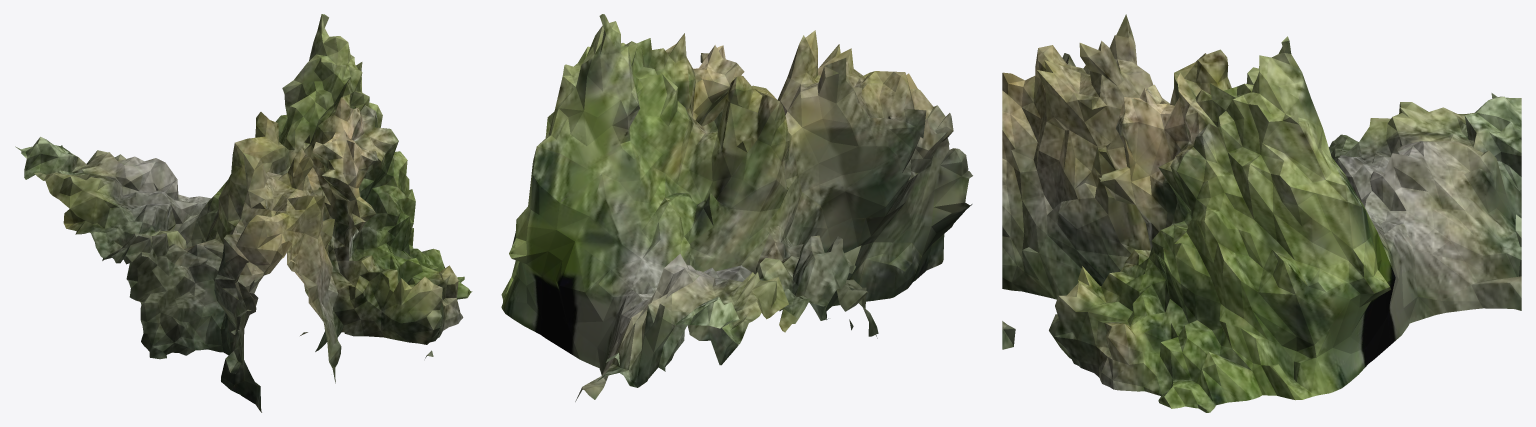
The picture shows the model from 3 angles, left to right: view 1: azimuth 30°, elevation 25°; view 2: azimuth 150°, elevation 25°; view 3: azimuth 270°, elevation 25°; orthographic projection. The views are drawn at different scales.
Size of the model in its own units: 19.61 by 15.77 by 23.6.
4 materials, 4 textured.
